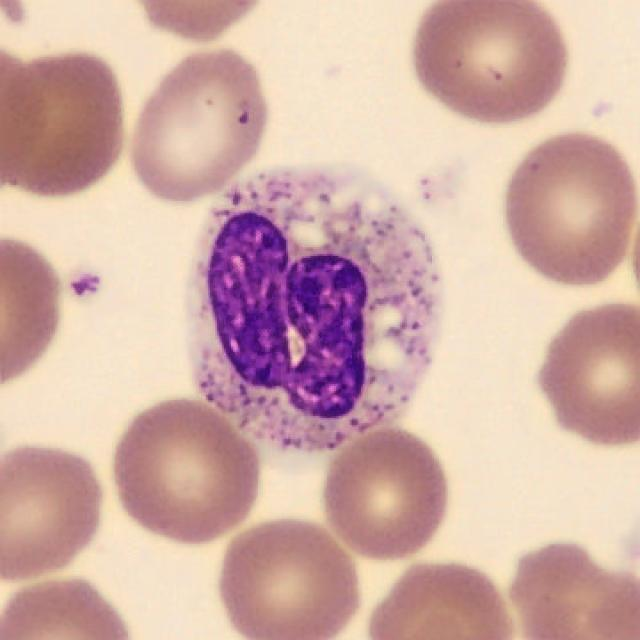Neutrofilo segmentado: (188, 162, 444, 455)
